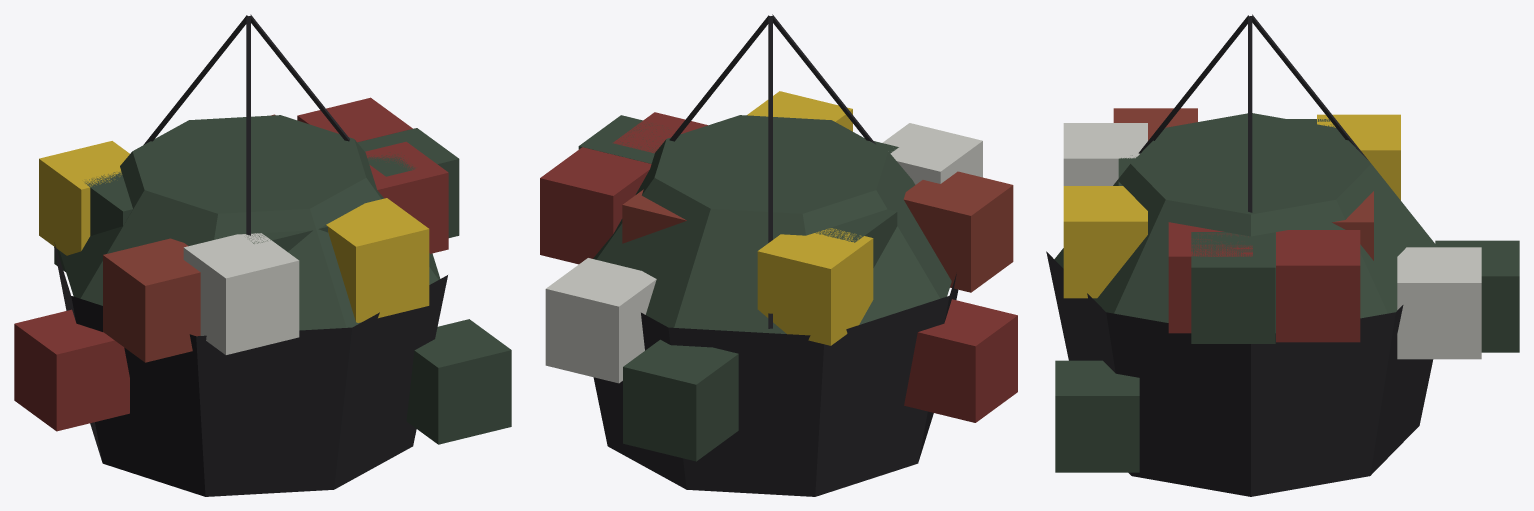
The model's file is town_flower_basket 2.gltf.
3 views of the same model, side by side, from view 1: azimuth 30°, elevation 25°; view 2: azimuth 150°, elevation 25°; view 3: azimuth 270°, elevation 25° (orthographic).
Visible parts, largest first — view 1: TownFlowerBasket_Blooms, TownFlowerBasket_Basket, TownFlowerBasket_Chains; view 2: TownFlowerBasket_Blooms, TownFlowerBasket_Basket, TownFlowerBasket_Chains; view 3: TownFlowerBasket_Blooms, TownFlowerBasket_Basket, TownFlowerBasket_Chains.
Part boxes in pixels (box(x1,y1,x2,y2)): TownFlowerBasket_Blooms: box(14, 97, 511, 444); TownFlowerBasket_Basket: box(54, 242, 447, 496); TownFlowerBasket_Chains: box(143, 14, 349, 235); TownFlowerBasket_Blooms: box(540, 91, 1017, 461); TownFlowerBasket_Basket: box(593, 274, 958, 496); TownFlowerBasket_Chains: box(669, 14, 875, 328); TownFlowerBasket_Blooms: box(1054, 108, 1519, 472); TownFlowerBasket_Basket: box(1046, 251, 1433, 496); TownFlowerBasket_Chains: box(1138, 14, 1369, 212).
Size of what is drawn, in the model's own units: 0.7628 by 0.7525 by 0.7864.
Materials: 1 (1 with a texture image).
